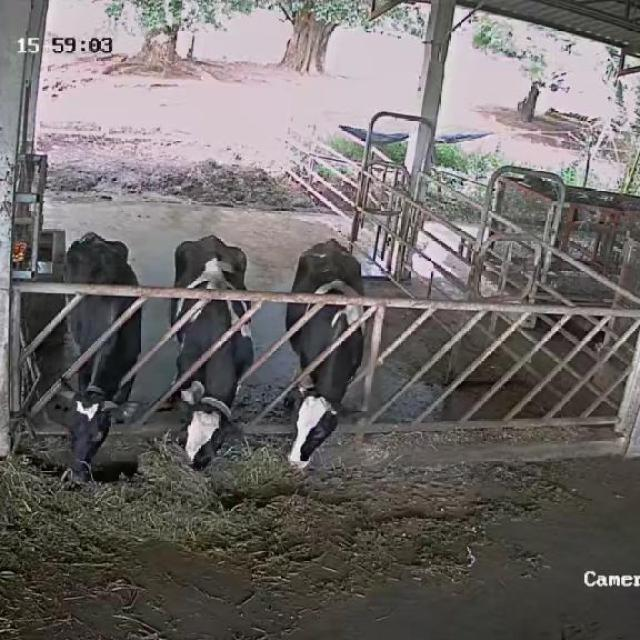feeding: (164, 237, 264, 478), (54, 235, 146, 494), (287, 238, 375, 476)
